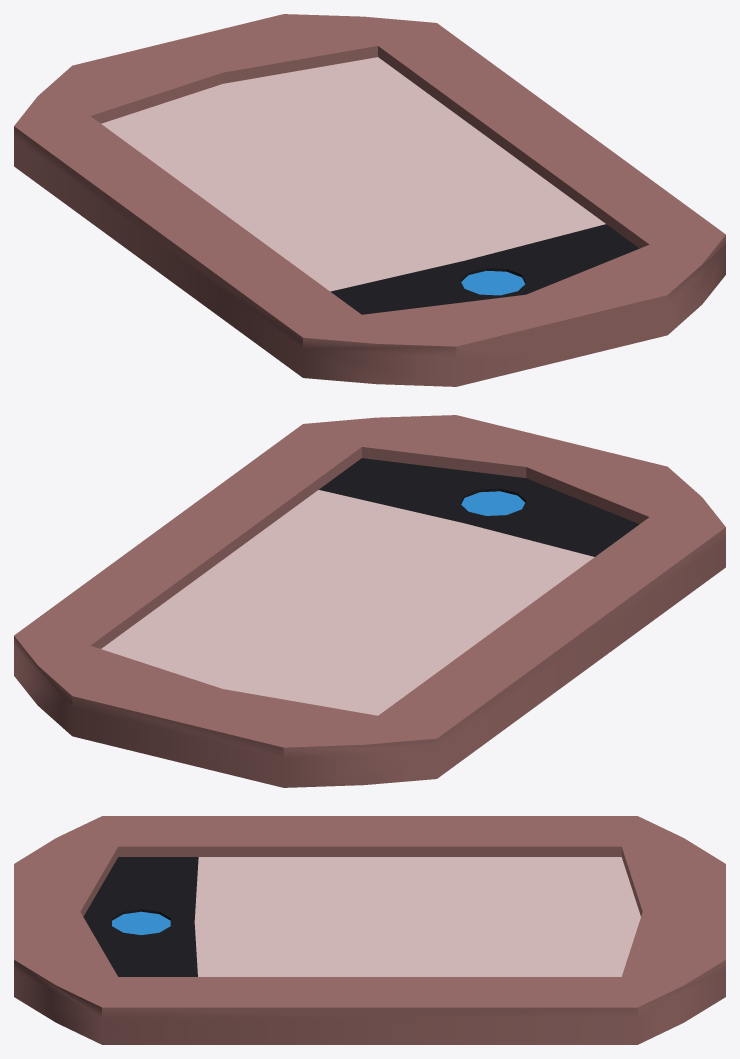
The model's file is phone.fbx.
3 views of the same model, one above another, from view 1: azimuth 30°, elevation 25°; view 2: azimuth 150°, elevation 25°; view 3: azimuth 270°, elevation 25° (orthographic). The views are drawn at different scales.
Parts seen in each view (by area): view 1: pCube2; view 2: pCube2; view 3: pCube2.
Part boxes in pixels (box(x1,y1,x2,y2)): pCube2: box(14, 14, 725, 386); pCube2: box(14, 415, 725, 787); pCube2: box(14, 816, 725, 1044).
Bounding box in the file's own units: 1 × 0.0913 × 1.57.
